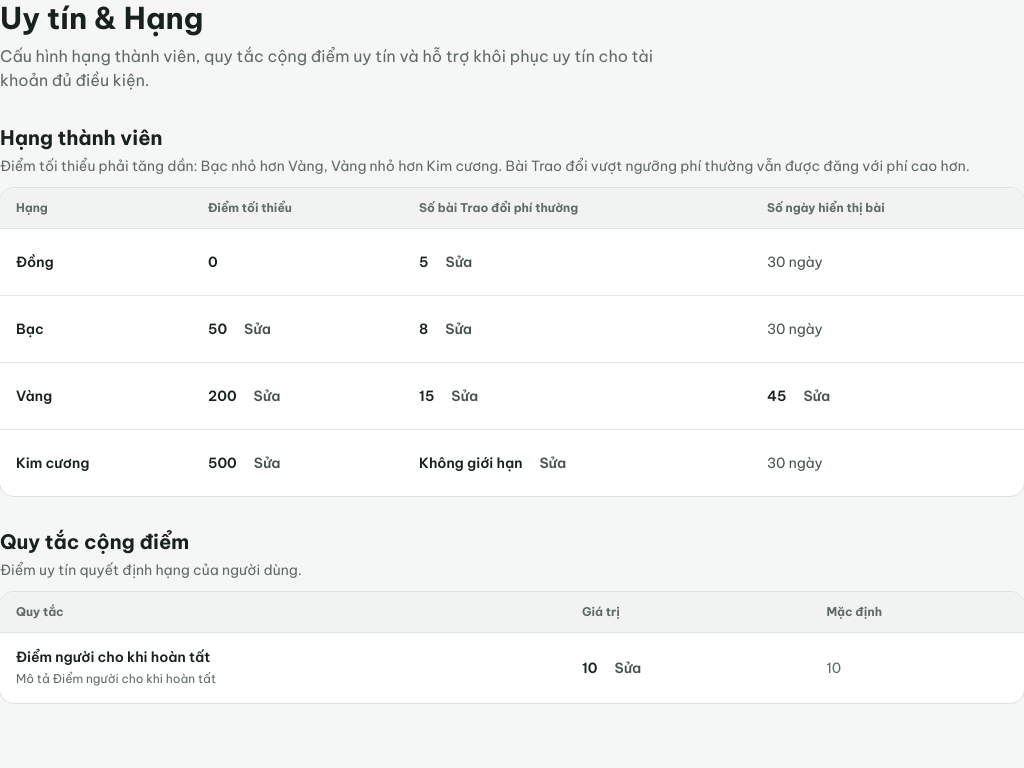
Test: AdminReputation cấu hình hạng › lưu điểm hạng hợp lệ kèm lý do và hiện thông báo thành công
The width and height of the screenshot is (1024, 768).
Click the button with aria-label "Sửa Điểm tối thiểu hạng Vàng": (267, 396) top-left (245, 377), bottom-right (289, 415)
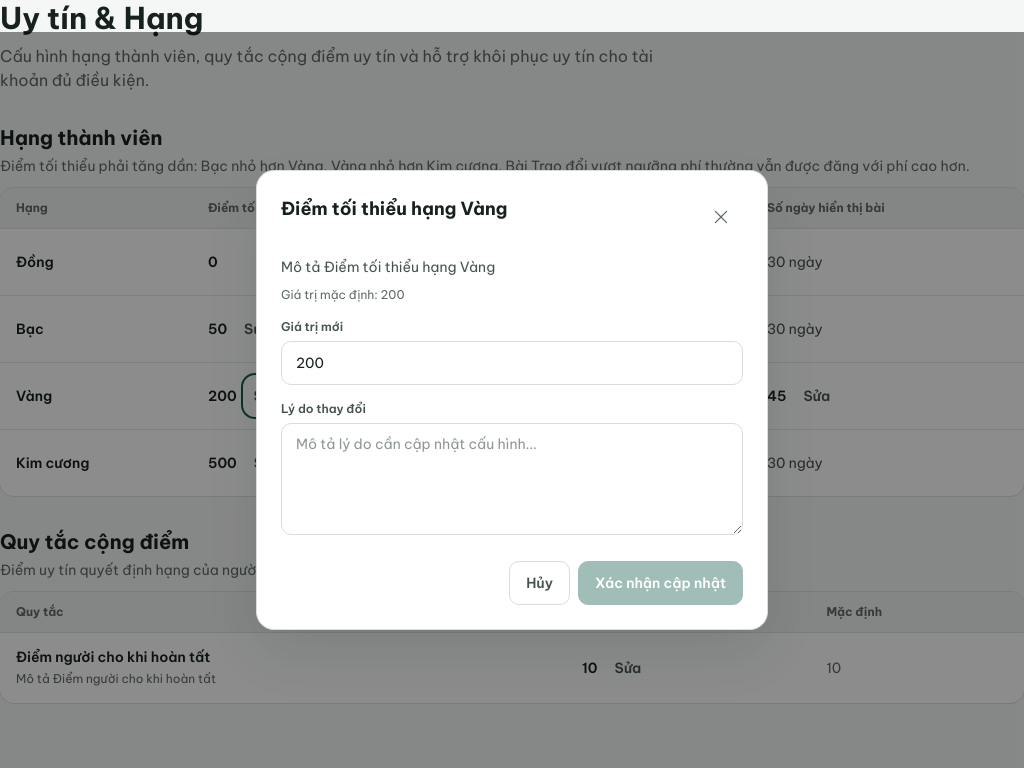
Replace the text in the field labelled "Giá trị mới" with "300": (512, 363) top-left (281, 341), bottom-right (743, 385)
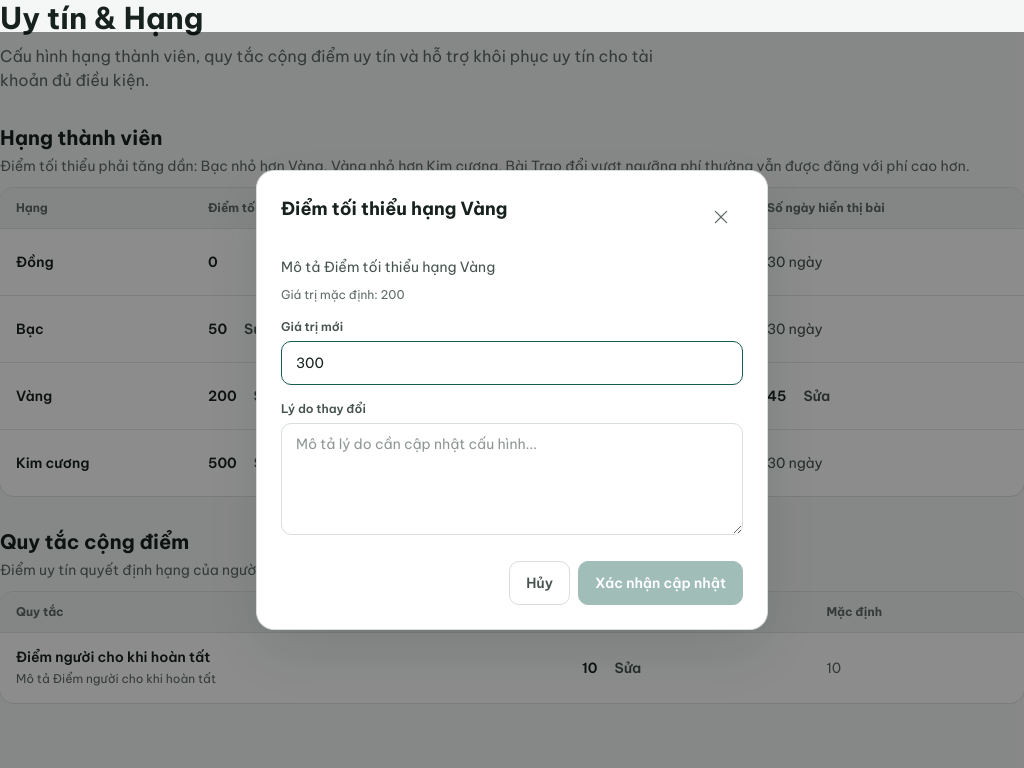
In the text box labelled "Lý do thay đổi": (512, 479) top-left (281, 423), bottom-right (743, 535), type "Nâng ngưỡng hạng Vàng"
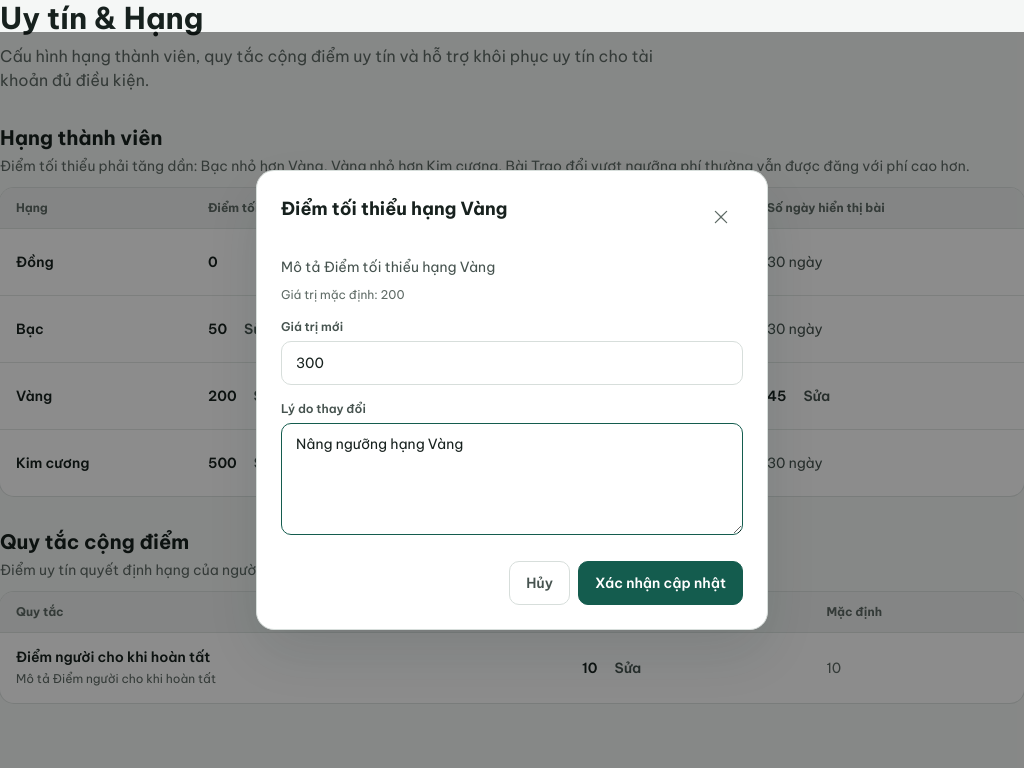
Click the button "Xác nhận cập nhật": (660, 583) top-left (578, 561), bottom-right (743, 605)
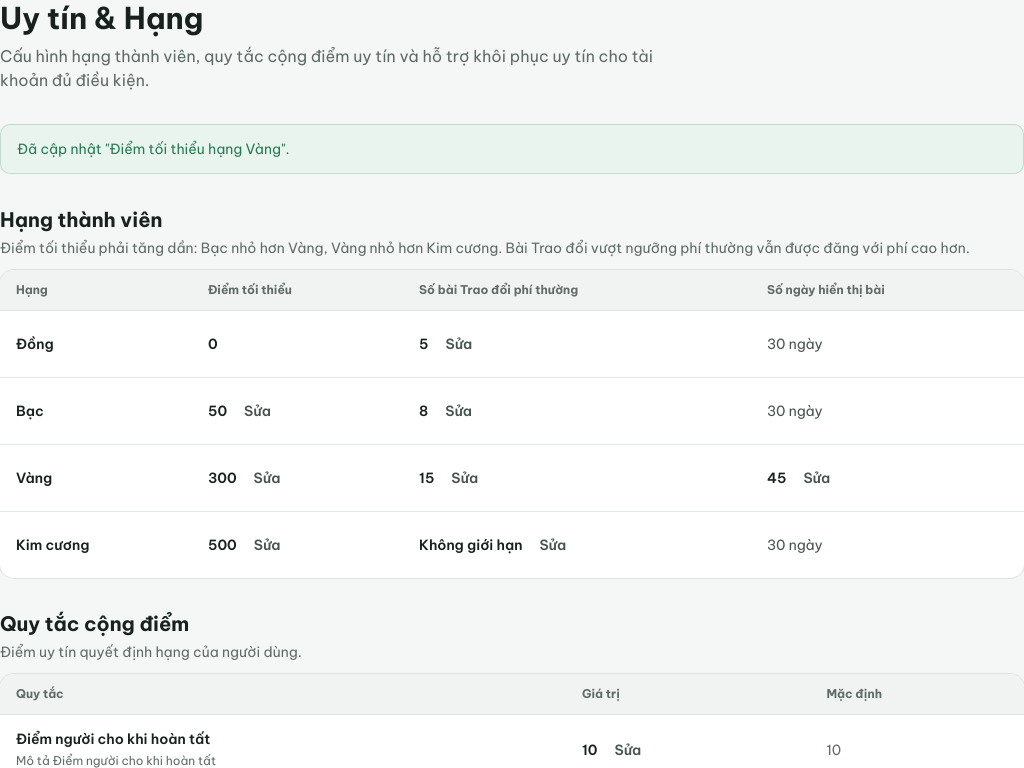
Expected: the text "Đã cập nhật \"Điểm tối thiểu hạng Vàng\"." is shown, top-left (0, 124), bottom-right (1023, 174)
